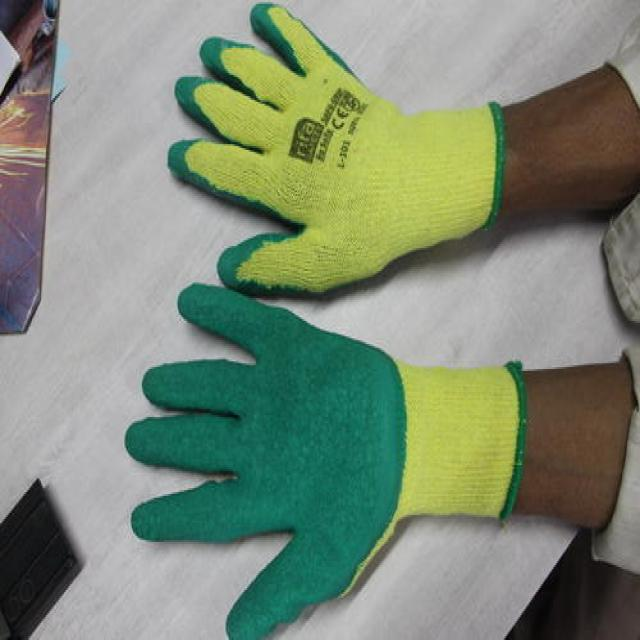gloves: (123, 282, 526, 640), (165, 0, 506, 306)
